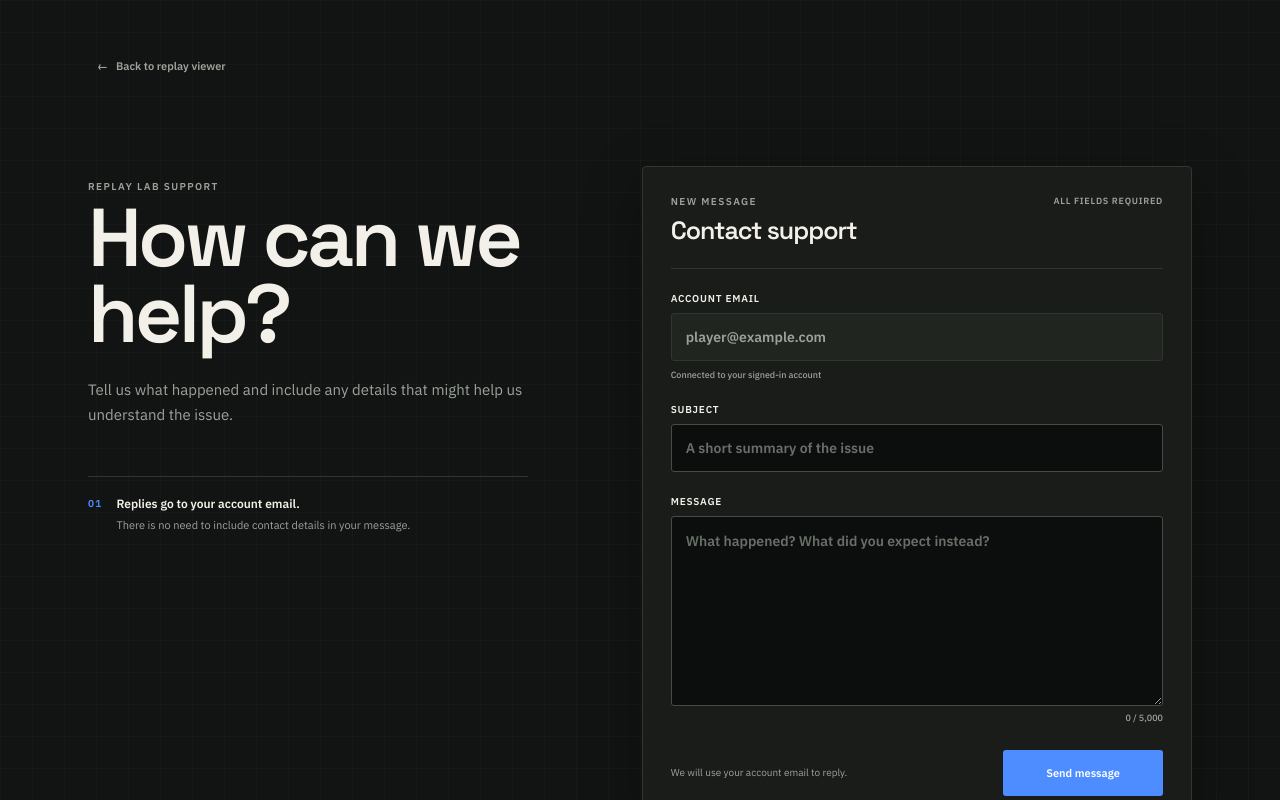
Test: SupportPage › sends the subject and message while displaying the account email
expect the field labelled "Account email" holds "player@example.com": met, box [671, 313, 1163, 361]
In the field labelled "Subject": (917, 448) [671, 424, 1163, 472], type "Replay will not load"
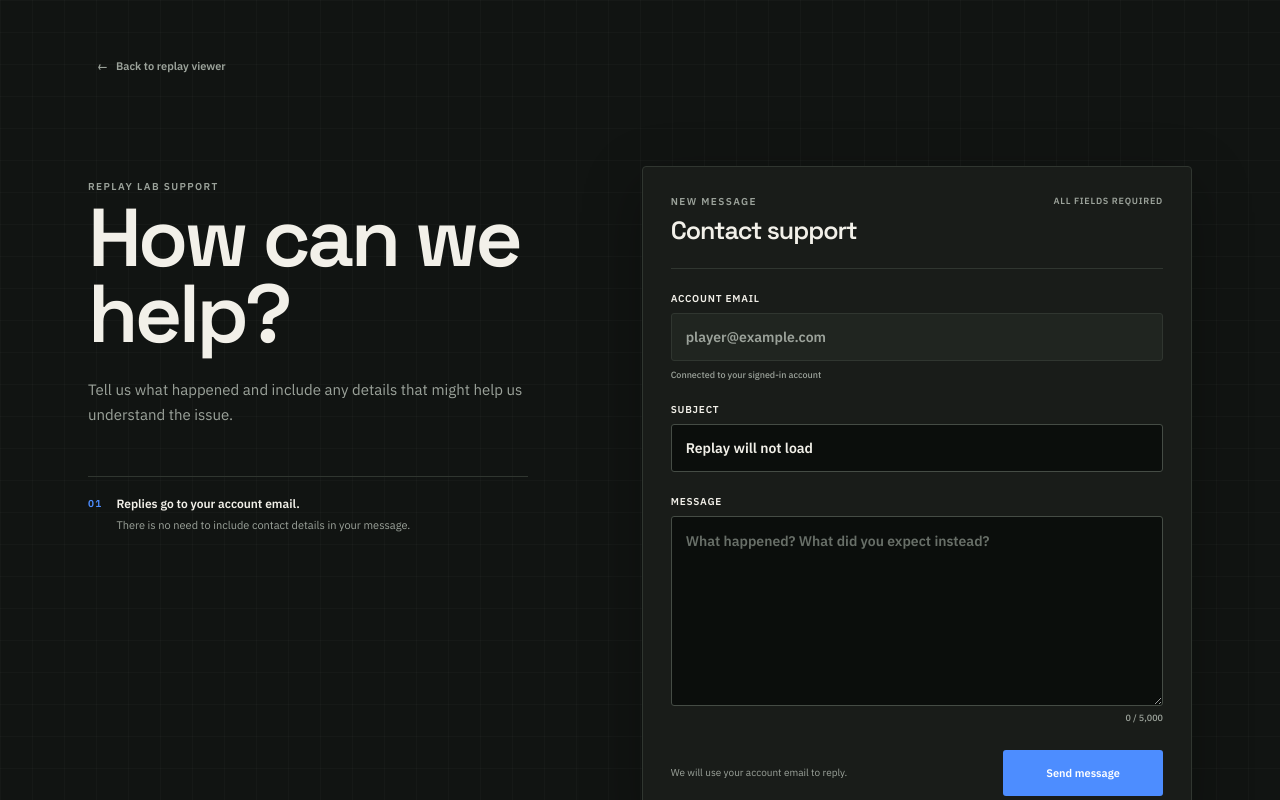
In the text box labelled "Message": (917, 611) [671, 516, 1163, 706], type "The viewer remains on the loading screen."
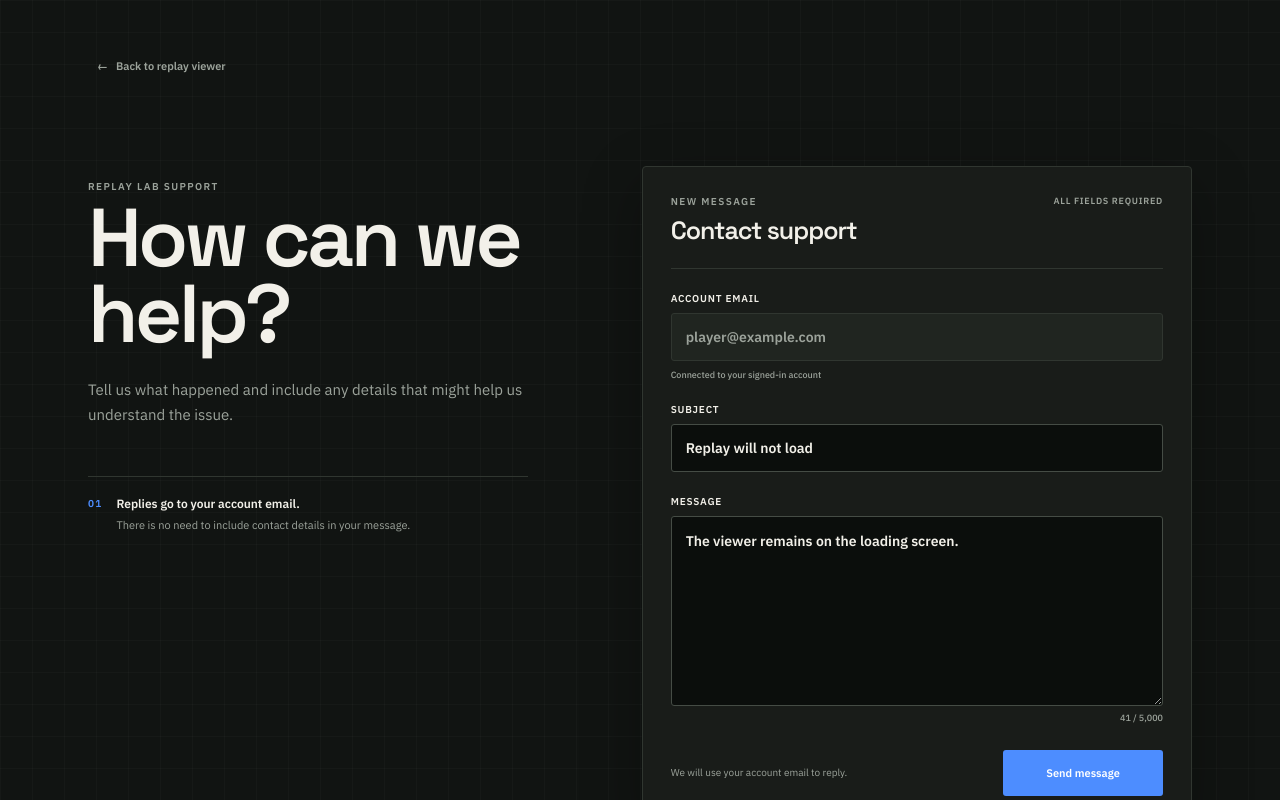
Click the button "Send message": (1083, 773) [1003, 750, 1163, 796]
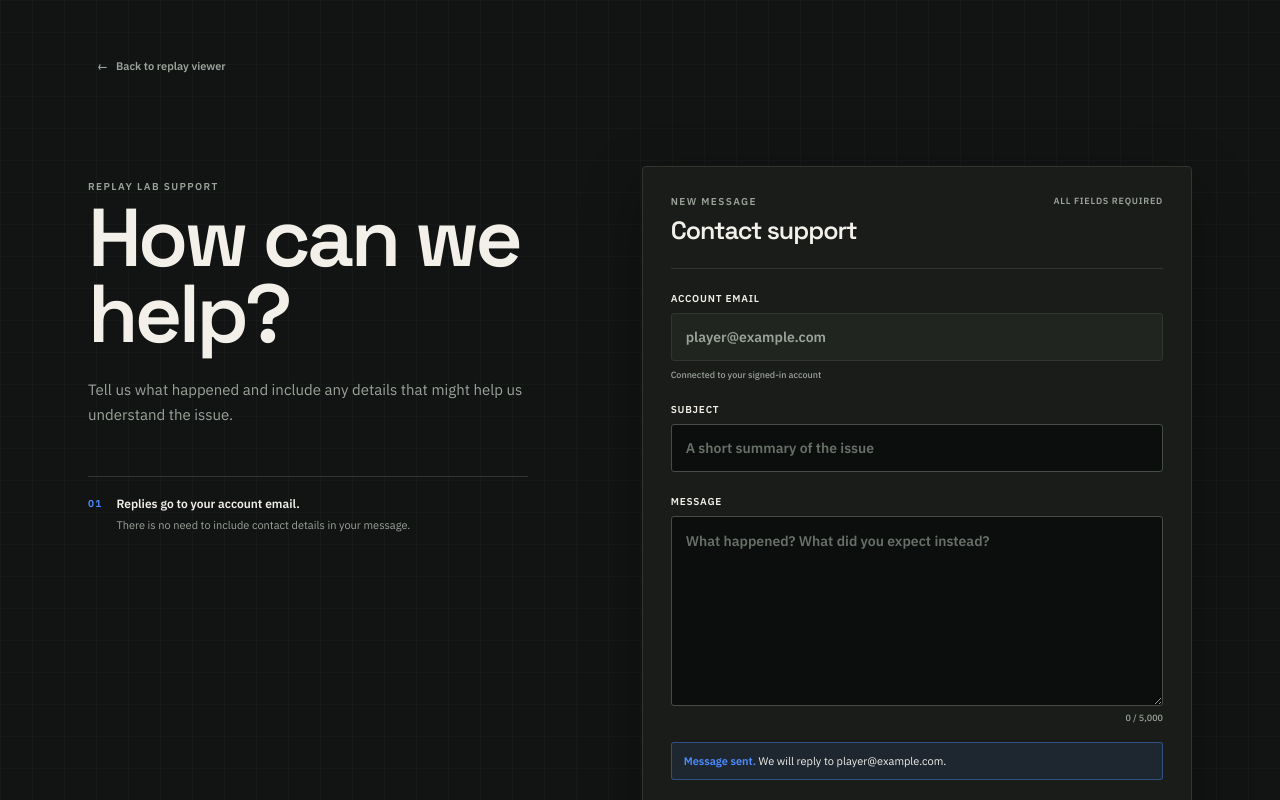
expect the text "Message sent." is shown: met, box [684, 754, 756, 768]
expect the field labelled "Subject" is empty: met, box [671, 424, 1163, 472]
expect the text box labelled "Message" is empty: met, box [671, 516, 1163, 706]
